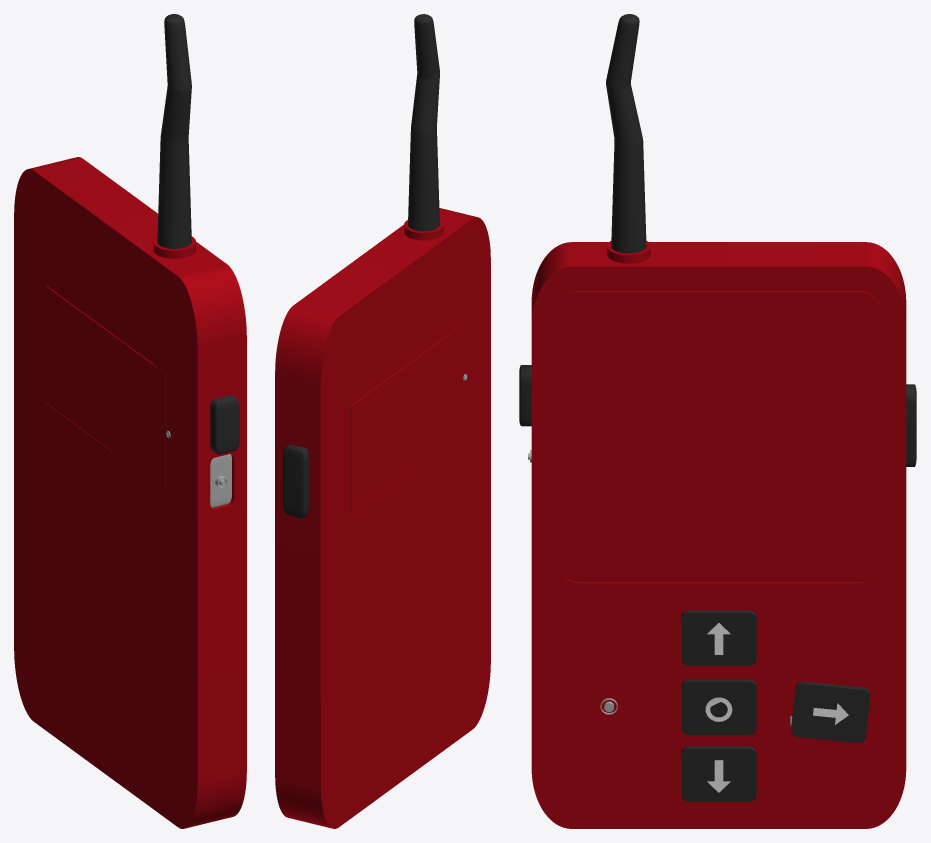
Rendered from PortableTeleporterNew5.fbx.
3 views of the same model, side by side, from view 1: azimuth 30°, elevation 25°; view 2: azimuth 150°, elevation 25°; view 3: azimuth 270°, elevation 25° (orthographic). The views are drawn at different scales.
Visible parts, largest first — view 1: Tablet, Cube, Cylinder.002, VolumeUp, VolumeDownUnder; view 2: Tablet, Cube, Cylinder.002, VolumeUp.001; view 3: Tablet, Cylinder.002, RightArrow, Select, DownArrow, UpArrow, DownArrow.001, VolumeUp.001, VolumeUp.
Part boxes in pixels (x1,y1,x2,y2): Tablet: [14, 157, 246, 828]; Cube: [46, 286, 173, 489]; Cylinder.002: [157, 14, 191, 248]; VolumeUp: [210, 395, 239, 454]; VolumeDownUnder: [210, 454, 231, 507]; Tablet: [275, 208, 490, 828]; Cube: [350, 326, 468, 514]; Cylinder.002: [408, 14, 439, 231]; VolumeUp.001: [282, 444, 308, 518]; Tablet: [531, 240, 906, 828]; Cylinder.002: [606, 14, 646, 253]; RightArrow: [791, 681, 870, 743]; Select: [681, 679, 756, 734]; DownArrow: [681, 746, 756, 801]; UpArrow: [681, 610, 756, 665]; DownArrow.001: [705, 623, 732, 792]; VolumeUp.001: [906, 384, 916, 466]; VolumeUp: [519, 365, 531, 426].
Size of the model in its own units: 103 by 1330 by 598.
